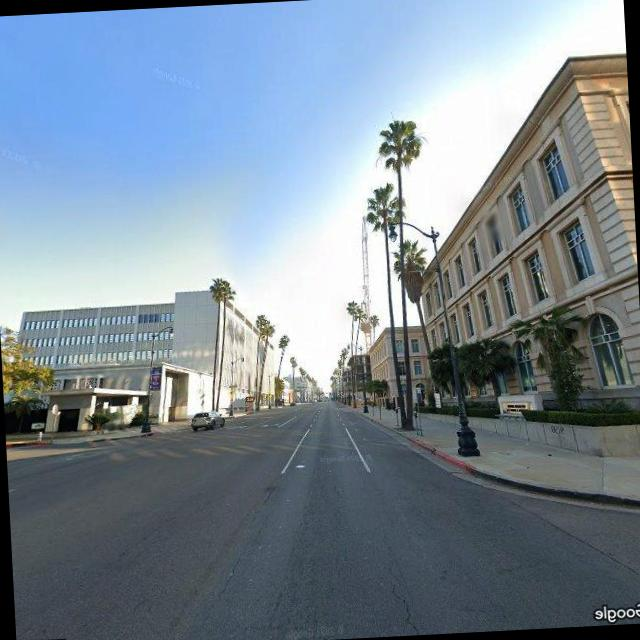pothole: (212, 502, 278, 600), (382, 557, 451, 636)
